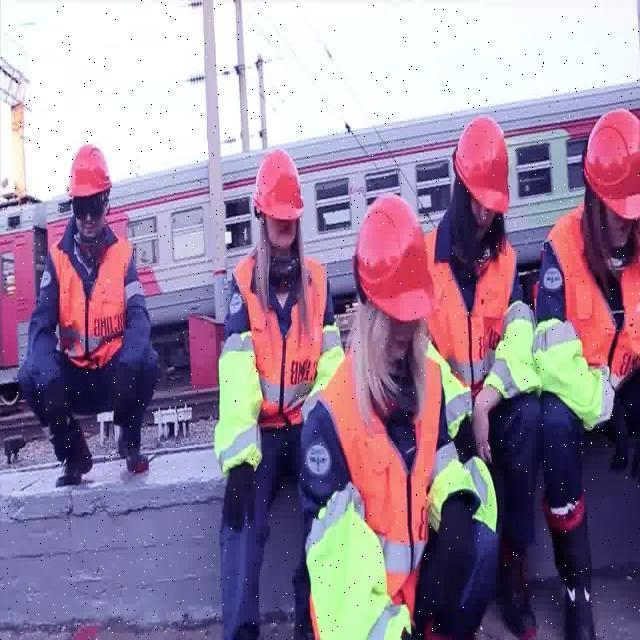Hard_hat: (349, 192, 435, 310), (447, 118, 525, 211), (582, 108, 640, 219), (249, 149, 308, 217), (67, 148, 117, 195)
Vest: (236, 256, 330, 422)
